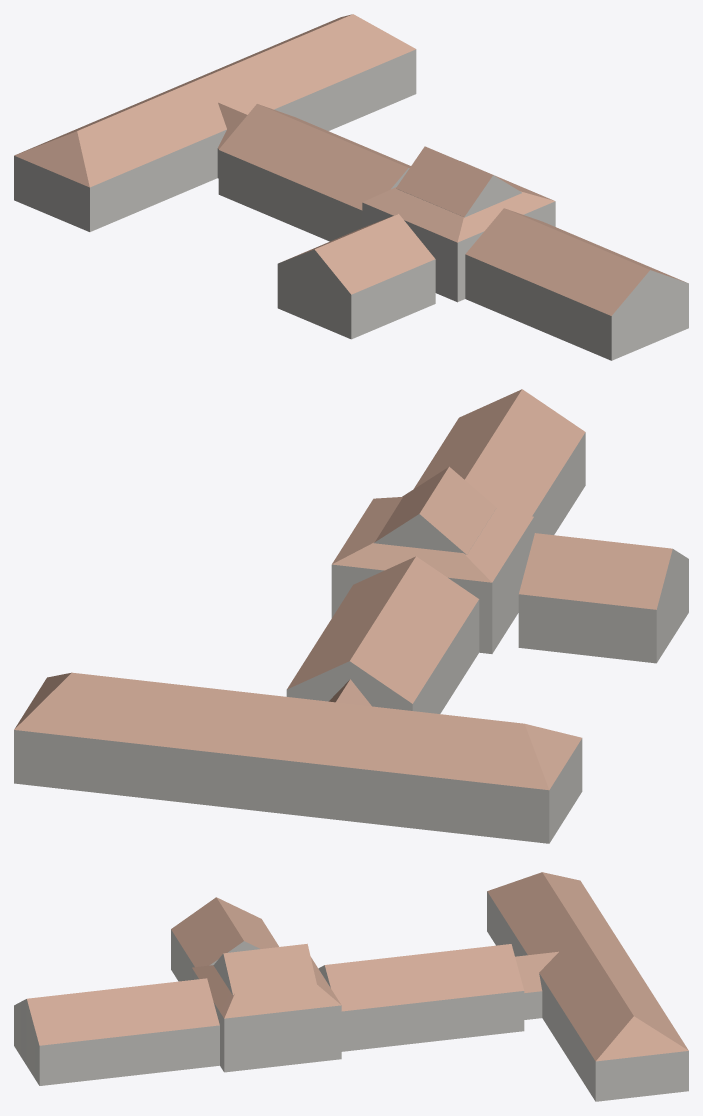
File: gridID_58.dae
3 renders of one model, top to bottom at view 1: azimuth 30°, elevation 25°; view 2: azimuth 150°, elevation 25°; view 3: azimuth 270°, elevation 25°, orthographic. The views are drawn at different scales.
Parts seen in each view (by area): view 1: model_gridID_58_w114518346, model_gridID_58_w114518334, model_gridID_58_w114518342; view 2: model_gridID_58_w114518334, model_gridID_58_w114518346, model_gridID_58_w114518342; view 3: model_gridID_58_w114518346, model_gridID_58_w114518334, model_gridID_58_w114518342.
Boxes of the visible parts, box(x1,y1,x2,y2) form: model_gridID_58_w114518346: box(218, 104, 688, 360); model_gridID_58_w114518334: box(14, 14, 416, 231); model_gridID_58_w114518342: box(277, 214, 435, 339); model_gridID_58_w114518334: box(14, 672, 582, 843); model_gridID_58_w114518346: box(286, 389, 585, 713); model_gridID_58_w114518342: box(518, 533, 688, 663); model_gridID_58_w114518346: box(14, 943, 524, 1085); model_gridID_58_w114518334: box(487, 872, 688, 1101); model_gridID_58_w114518342: box(171, 897, 278, 981).
Size of the model in its own units: 72.09 by 114 by 17.
